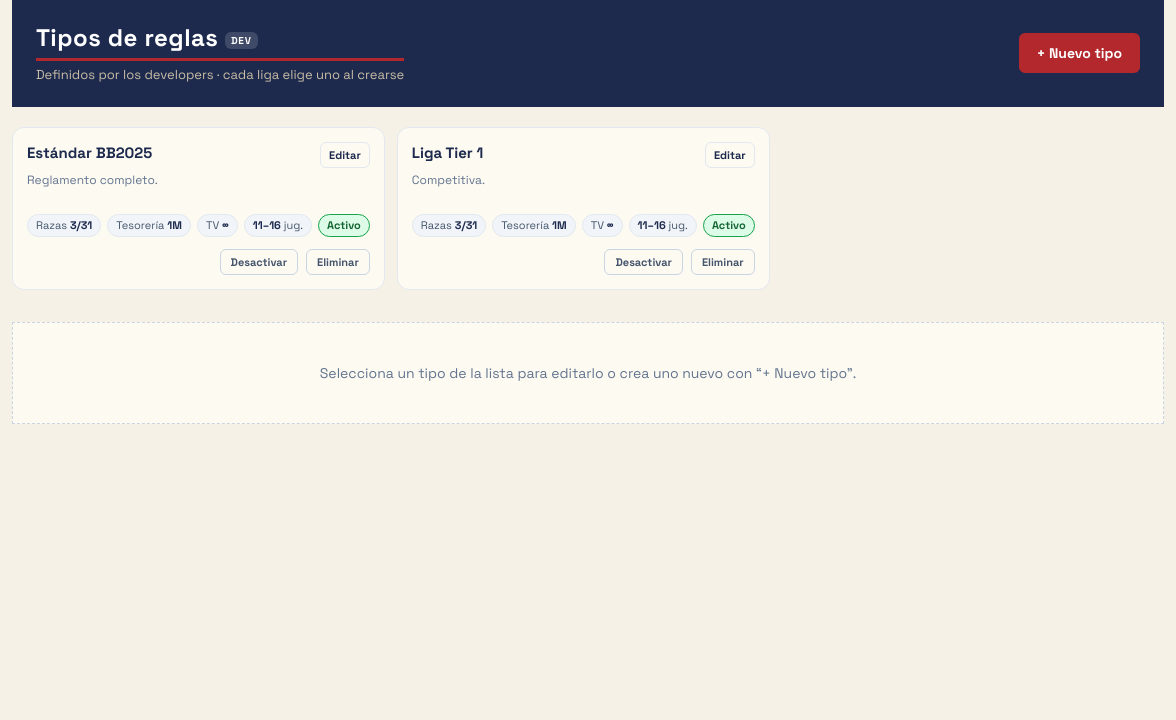
Test: RulesetManager › opens the editor in edit mode from the card Editar button
Expected: the button "Estándar BB2025" is shown, x1=27 y1=142 x2=152 y2=164
Click the 1st button "Editar" at coordinates (345, 155), box x1=320 y1=142 x2=370 y2=168
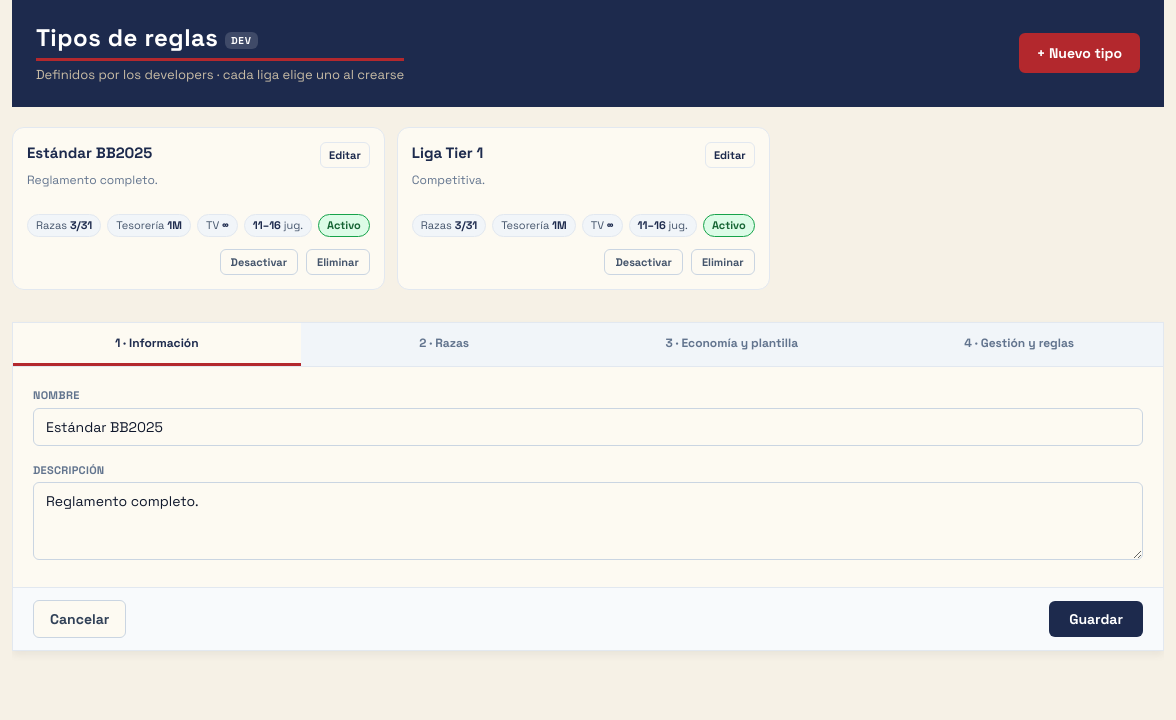
Now the element named "Configuración del tipo de reglas" is shown, box x1=13 y1=323 x2=1163 y2=367
Now the field labelled "Nombre" holds "Estándar BB2025", box x1=33 y1=408 x2=1143 y2=446
